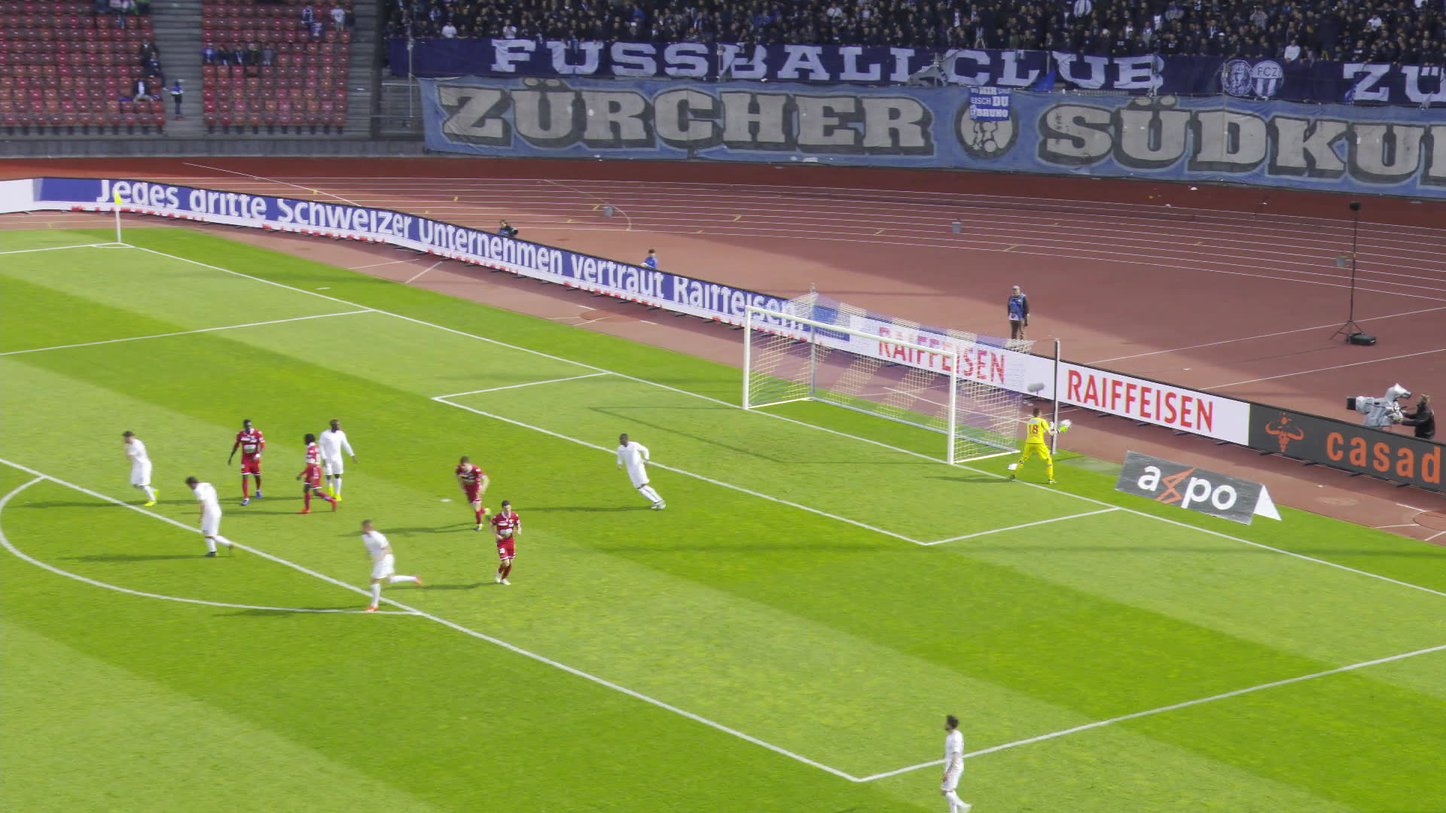ball: (1059, 419, 1072, 428)
player: (359, 513, 424, 611), (185, 468, 238, 560), (614, 426, 670, 513), (938, 711, 983, 812), (122, 426, 174, 507), (297, 430, 342, 516), (228, 414, 269, 508), (489, 497, 529, 588), (1014, 407, 1060, 485), (316, 418, 359, 500), (455, 452, 498, 530)
